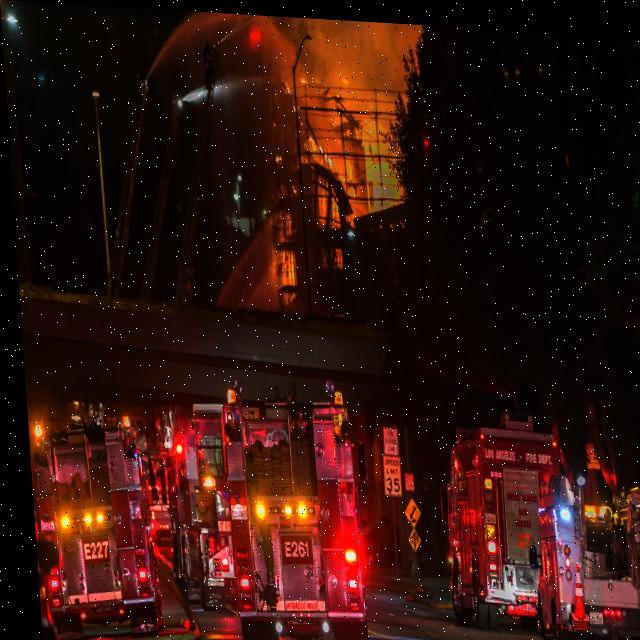Fire: (322, 99, 402, 210)
